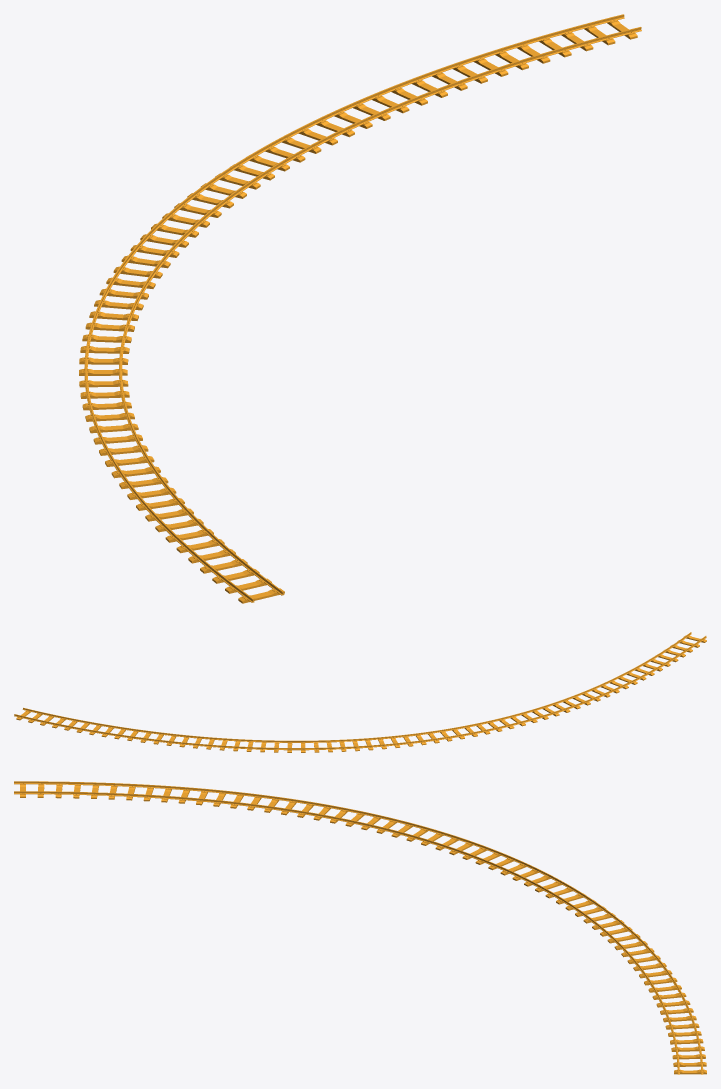
Rendered from SM_Train_Rail_Turn.fbx.
3 renders of one model, top to bottom at view 1: azimuth 30°, elevation 25°; view 2: azimuth 150°, elevation 25°; view 3: azimuth 270°, elevation 25°, orthographic. The views are drawn at different scales.
Visible parts, largest first — view 1: SM_Train_Rail_Turn; view 2: SM_Train_Rail_Turn; view 3: SM_Train_Rail_Turn.
Part boxes in pixels (bbox=[...]): SM_Train_Rail_Turn: bbox=[79, 14, 641, 603]; SM_Train_Rail_Turn: bbox=[14, 632, 706, 752]; SM_Train_Rail_Turn: bbox=[14, 781, 706, 1074].
Size of the model in its own units: 46.1 by 0.3232 by 46.1.
